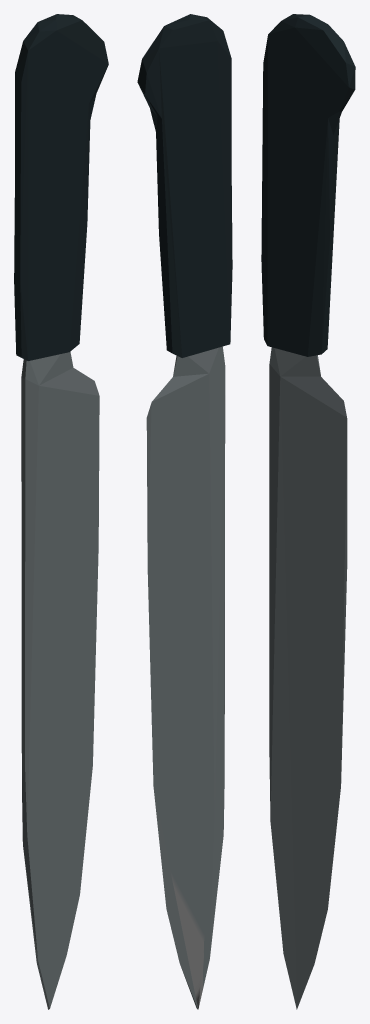
File: Knife06.fbx
The picture shows the model from 3 angles, left to right: view 1: azimuth 30°, elevation 25°; view 2: azimuth 210°, elevation 25°; view 3: azimuth 330°, elevation 25°; orthographic projection.
Parts seen in each view (by area): view 1: Knife06LowPoly; view 2: Knife06LowPoly; view 3: Knife06LowPoly.
Boxes of the visible parts, box(x1,y1,x2,y2) form: Knife06LowPoly: box(14, 14, 108, 1009); Knife06LowPoly: box(137, 14, 232, 1009); Knife06LowPoly: box(261, 14, 355, 1009).
Bounding box in the file's own units: 2.96 × 31.88 × 0.5673.
